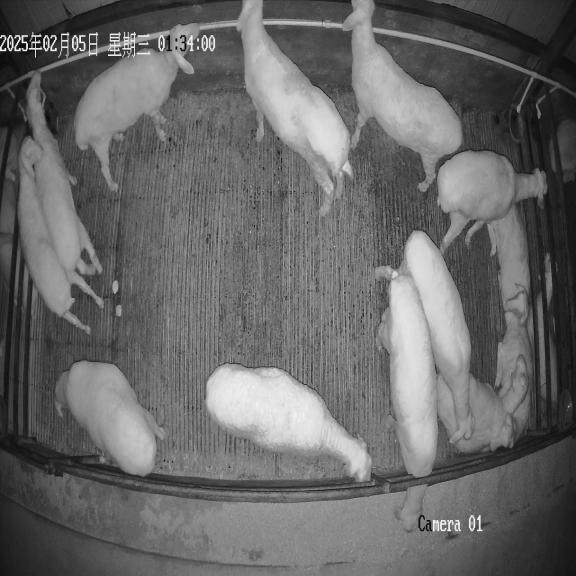eating: (375, 266, 438, 532)
lying: (450, 355, 529, 453), (487, 205, 530, 322), (437, 373, 455, 436)
stand: (237, 0, 353, 216), (343, 0, 462, 192), (73, 23, 200, 191), (205, 363, 372, 481), (26, 73, 103, 307), (17, 137, 103, 333), (399, 231, 474, 443), (54, 360, 166, 476), (437, 150, 547, 250)
